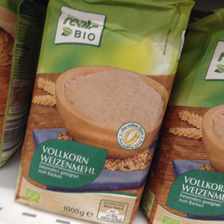flour: (14, 2, 190, 223), (143, 6, 223, 223)
